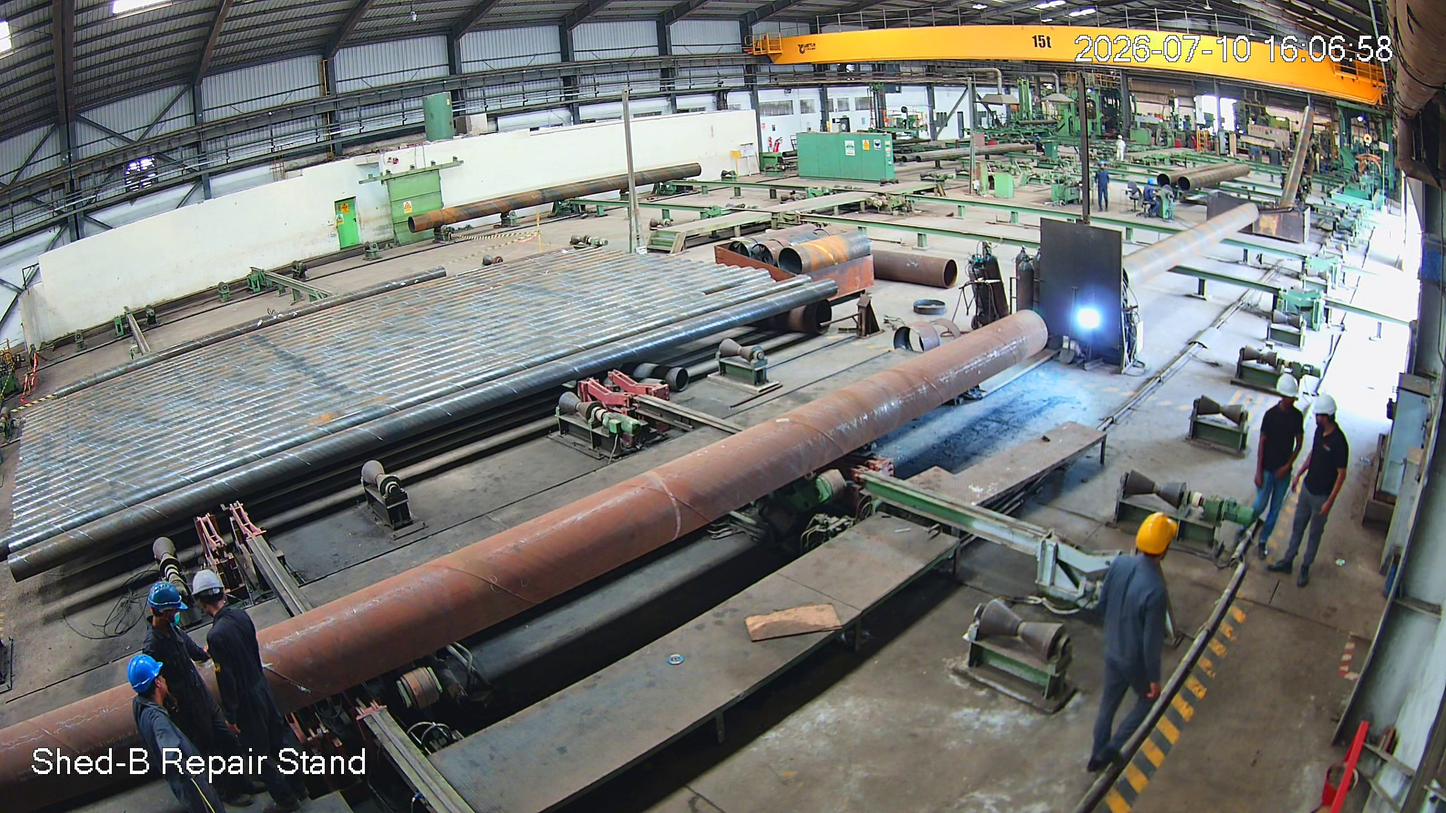Helmet: (1125, 496, 1200, 585), (120, 650, 184, 710), (137, 582, 198, 642), (189, 569, 244, 621), (1269, 362, 1316, 413), (1309, 388, 1349, 438)
Person: (1076, 506, 1188, 778), (1227, 372, 1314, 562), (1283, 395, 1367, 586), (173, 585, 238, 813), (115, 657, 208, 808), (121, 591, 183, 813)
